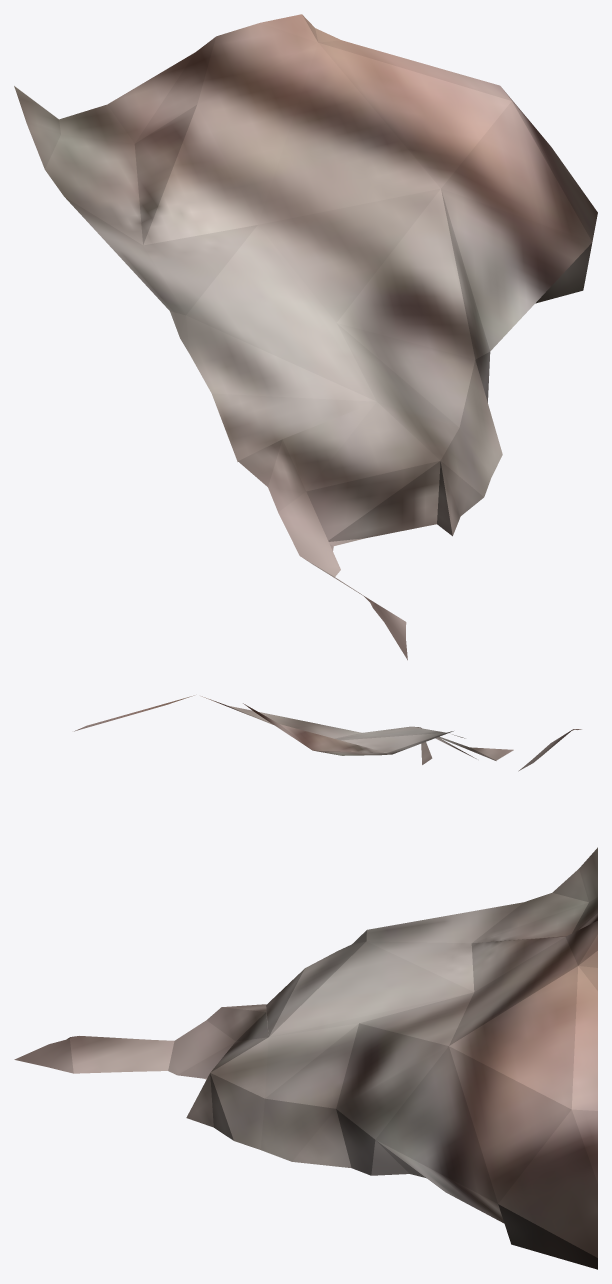
3 views of the same model, one above another, from view 1: azimuth 30°, elevation 25°; view 2: azimuth 150°, elevation 25°; view 3: azimuth 270°, elevation 25° (orthographic). The views are drawn at different scales.
Size of the model in its own units: 0.3776 by 0.1789 by 0.4412.
Materials: 1 (1 with a texture image).
